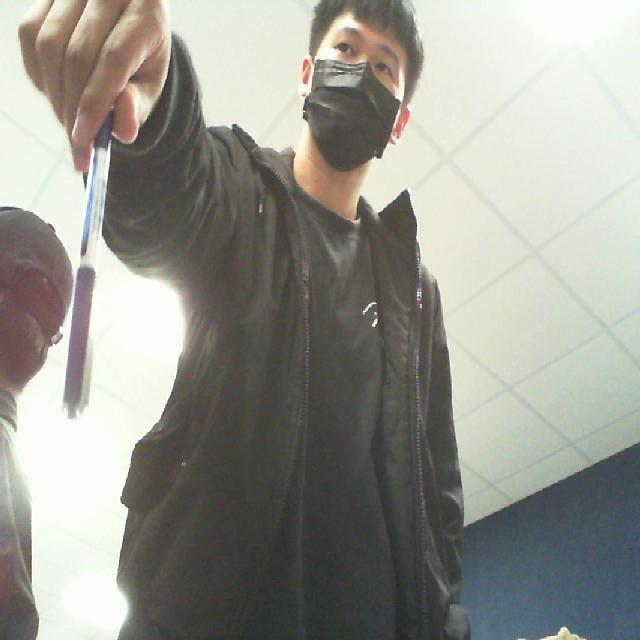Pen: (48, 100, 124, 420)
